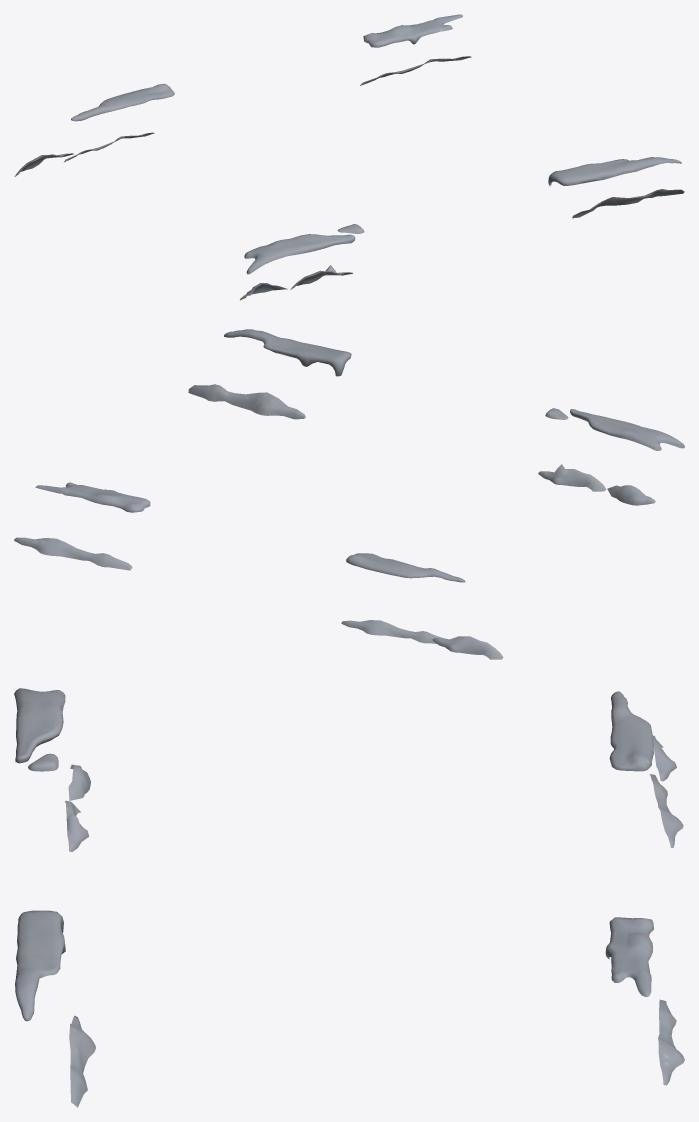
Rendered from pref_sm_beach_winter_snow11_lv3.fbx.
The picture shows the model from 3 angles, top to bottom: view 1: azimuth 30°, elevation 25°; view 2: azimuth 150°, elevation 25°; view 3: azimuth 270°, elevation 25°; orthographic projection. The views are drawn at different scales.
Visible parts, largest first — view 1: pref_sm_beach_winter_snow11_lv3; view 2: pref_sm_beach_winter_snow11_lv3; view 3: pref_sm_beach_winter_snow11_lv3.
Part boxes in pixels (x1,y1,x2,y2): pref_sm_beach_winter_snow11_lv3: (14,14,684,300); pref_sm_beach_winter_snow11_lv3: (14,329,684,659); pref_sm_beach_winter_snow11_lv3: (14,688,684,1107).
Bounding box in the file's own units: 16.42 × 1.99 × 12.64.
